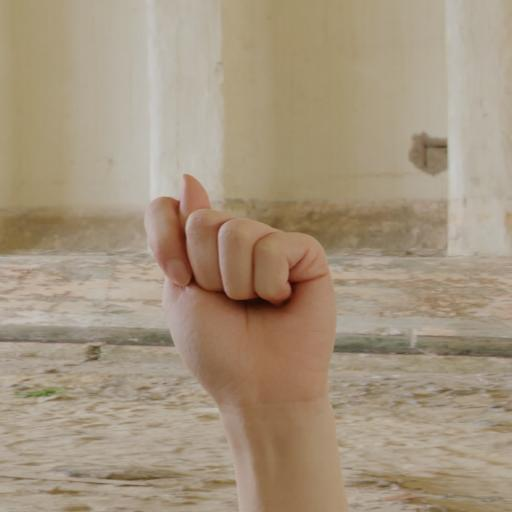B: (138, 168, 344, 400)
